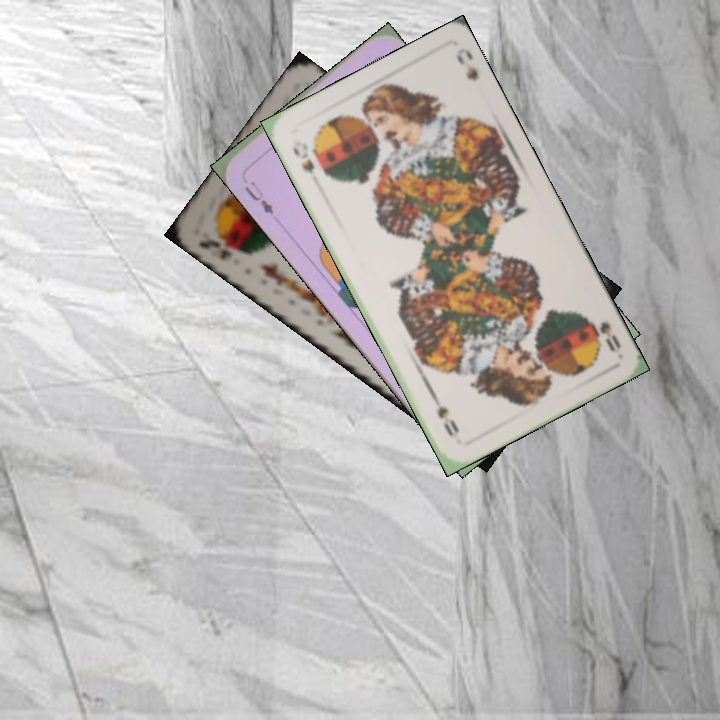EU: (240, 177, 276, 217)
SK: (195, 231, 246, 264)
SO: (581, 311, 624, 355), (288, 143, 323, 188)
